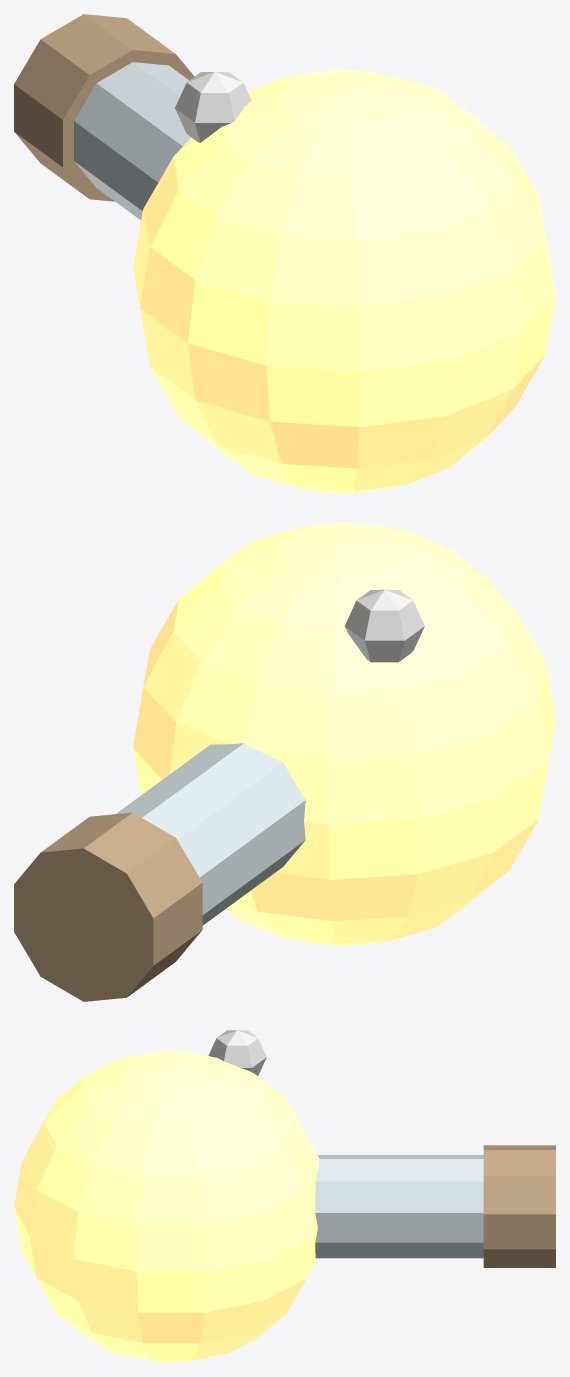
File: fire_resistance_held.gltf
3 renders of one model, top to bottom at view 1: azimuth 30°, elevation 25°; view 2: azimuth 150°, elevation 25°; view 3: azimuth 270°, elevation 25°, orthographic. The views are drawn at different scales.
Visible parts, largest first — view 1: alchemy_fire_resistance_held; view 2: alchemy_fire_resistance_held; view 3: alchemy_fire_resistance_held.
Part boxes in pixels (x1,y1,x2,y2): alchemy_fire_resistance_held: (14,14,555,493); alchemy_fire_resistance_held: (14,522,555,1001); alchemy_fire_resistance_held: (14,1030,555,1362).
Size of the model in its own units: 0.0936 by 0.097 by 0.165.
